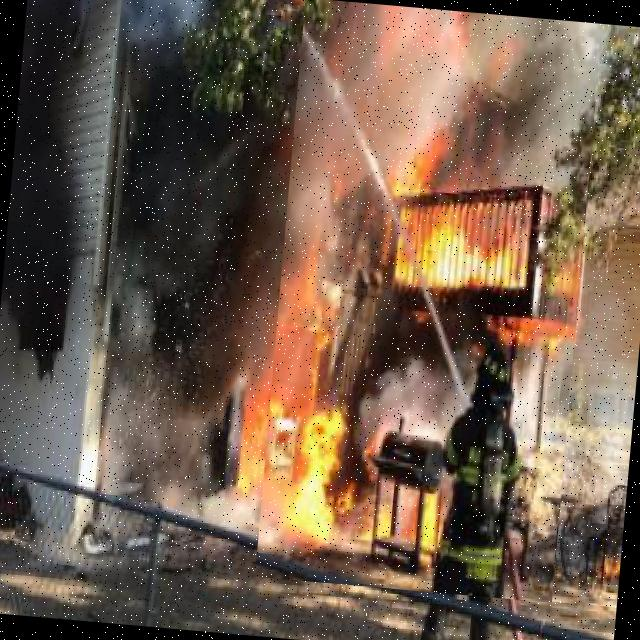fire: (254, 0, 602, 602)
